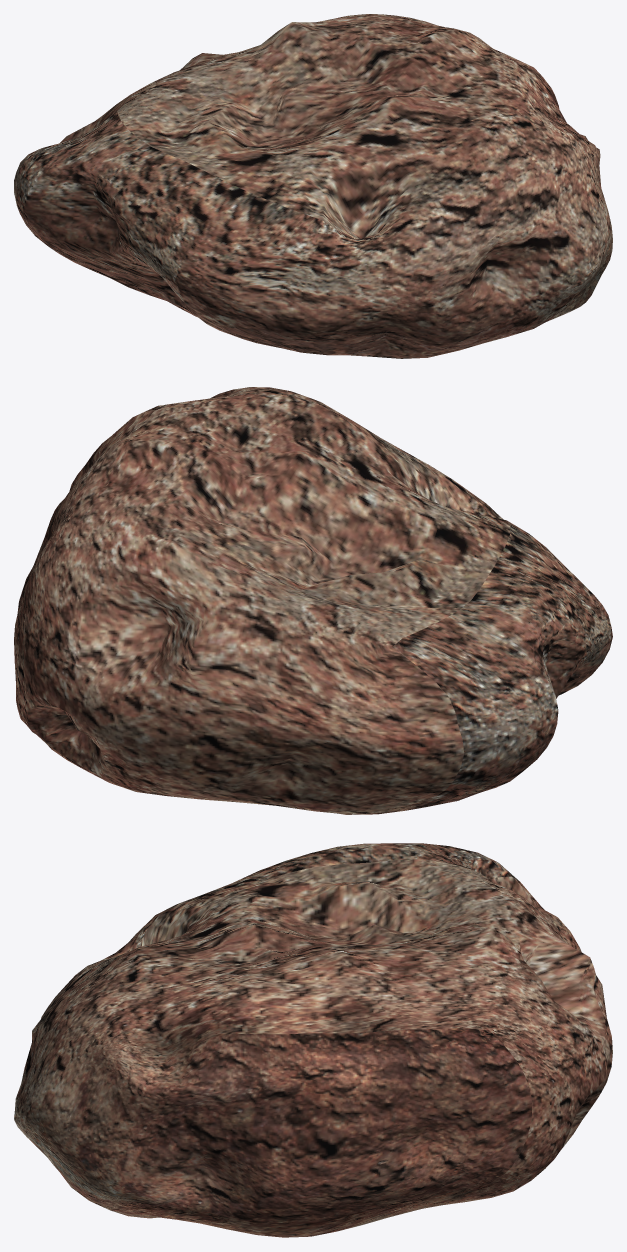
Rendered from asteroids1.fbx.
3 renders of one model, top to bottom at view 1: azimuth 30°, elevation 25°; view 2: azimuth 150°, elevation 25°; view 3: azimuth 270°, elevation 25°, orthographic. The views are drawn at different scales.
Parts seen in each view (by area): view 1: polySurface1; view 2: polySurface1; view 3: polySurface1.
Part boxes in pixels (box(x1,y1,x2,y2)): polySurface1: box(14, 14, 612, 358); polySurface1: box(14, 387, 612, 814); polySurface1: box(14, 843, 612, 1237).
Bounding box in the file's own units: 3.47 × 1.69 × 3.39.
1 material, 1 textured.
